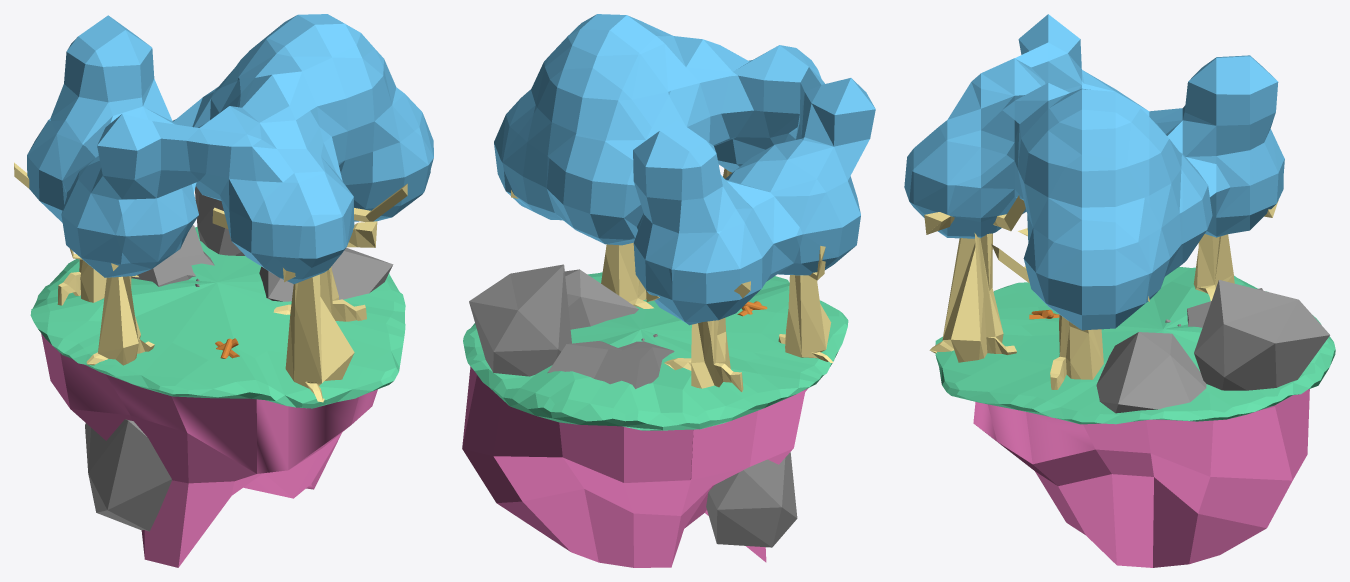
Rendered from ile9.fbx.
The picture shows the model from 3 angles, left to right: view 1: azimuth 30°, elevation 25°; view 2: azimuth 150°, elevation 25°; view 3: azimuth 270°, elevation 25°; orthographic projection. The views are drawn at different scales.
Visible parts, largest first — view 1: feuillageil9, Sphère_1, groundile9, rock49, Cube_1_3, Cube_1_2, rock29, rock39, Cube_1_4, Cube_1, rock19; view 2: feuillageil9, groundile9, Sphère_1, rock19, rock49, rock39, Cube_1_2, Cube_1, rock29, Cube_1_4; view 3: feuillageil9, groundile9, Sphère_1, rock19, Cube_1_3, rock29, Cube_1_4, Cube_1.
Boxes of the visible parts, box(x1,y1,x2,y2) form: feuillageil9: box(27, 14, 433, 284); Sphère_1: box(30, 227, 405, 408); groundile9: box(41, 333, 377, 567); rock49: box(85, 419, 171, 531); Cube_1_3: box(212, 207, 377, 402); Cube_1_2: box(69, 248, 154, 365); rock29: box(259, 247, 393, 301); rock39: box(132, 225, 214, 286); Cube_1_4: box(273, 183, 407, 321); Cube_1: box(14, 162, 138, 305); rock19: box(195, 186, 244, 255); feuillageil9: box(494, 14, 875, 325); groundile9: box(462, 366, 808, 567); Sphère_1: box(463, 272, 848, 430); rock19: box(469, 264, 571, 376); rock49: box(706, 452, 797, 547); rock39: box(547, 341, 674, 388); Cube_1_2: box(778, 246, 833, 362); Cube_1: box(646, 281, 750, 391); rock29: box(564, 269, 638, 329); Cube_1_4: box(511, 190, 653, 308); feuillageil9: box(904, 14, 1284, 330); groundile9: box(973, 389, 1309, 567); Sphère_1: box(935, 266, 1335, 424); rock19: box(1194, 280, 1329, 390); Cube_1_3: box(924, 195, 1025, 362); rock29: box(1096, 332, 1206, 413); Cube_1_4: box(991, 228, 1149, 389); Cube_1: box(1193, 200, 1278, 300).
Size of the model in its own units: 475 by 647 by 513.
